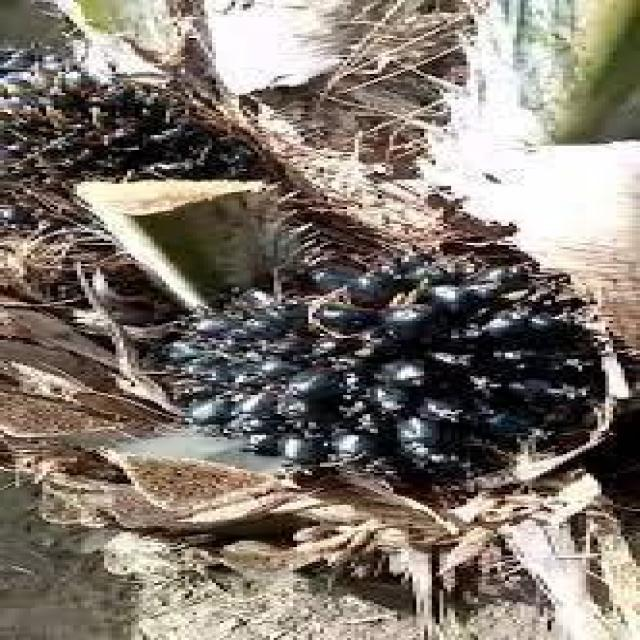Unripe: (154, 249, 609, 484)
